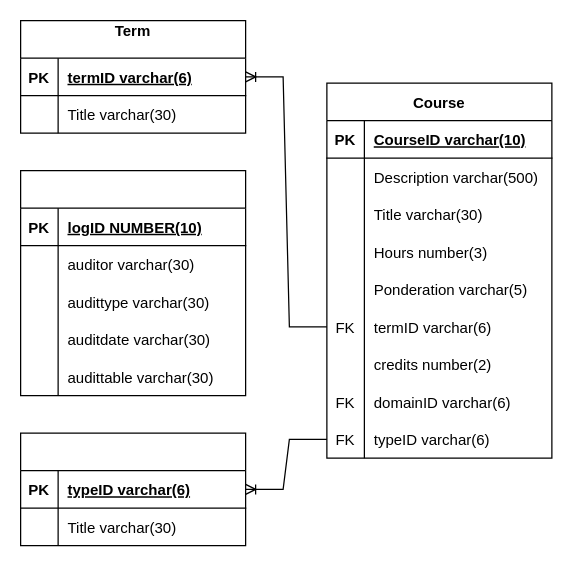
Some shapes in this 573 by 566 pixel diagram are drawn without their labels. The shapes that lost their labels are listed below. From the top down, each one's box as (x1, y1, x2, y2) in pixels, then its label:
(19, 169, 246, 396): AuditLog
(19, 432, 246, 546): ClassType
